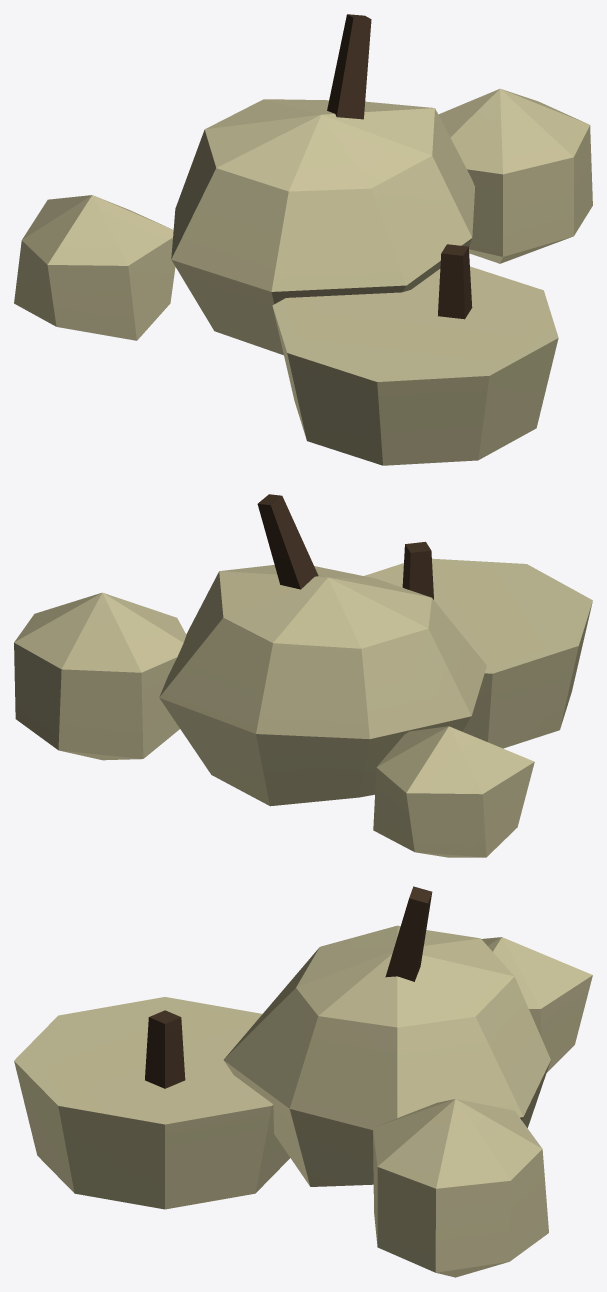
Rendered from caral_gourd_lod0.glb.
The picture shows the model from 3 angles, top to bottom: view 1: azimuth 30°, elevation 25°; view 2: azimuth 150°, elevation 25°; view 3: azimuth 270°, elevation 25°; orthographic projection. The views are drawn at different scales.
Parts seen in each view (by area): view 1: GEO-Props_gourd_LOD0; view 2: GEO-Props_gourd_LOD0; view 3: GEO-Props_gourd_LOD0.
Part boxes in pixels (<box>): GEO-Props_gourd_LOD0: <box>14,14,592,465</box>; GEO-Props_gourd_LOD0: <box>14,494,592,857</box>; GEO-Props_gourd_LOD0: <box>14,886,592,1277</box>.
Bounding box in the file's own units: 0.5423 × 0.2929 × 0.4982.
